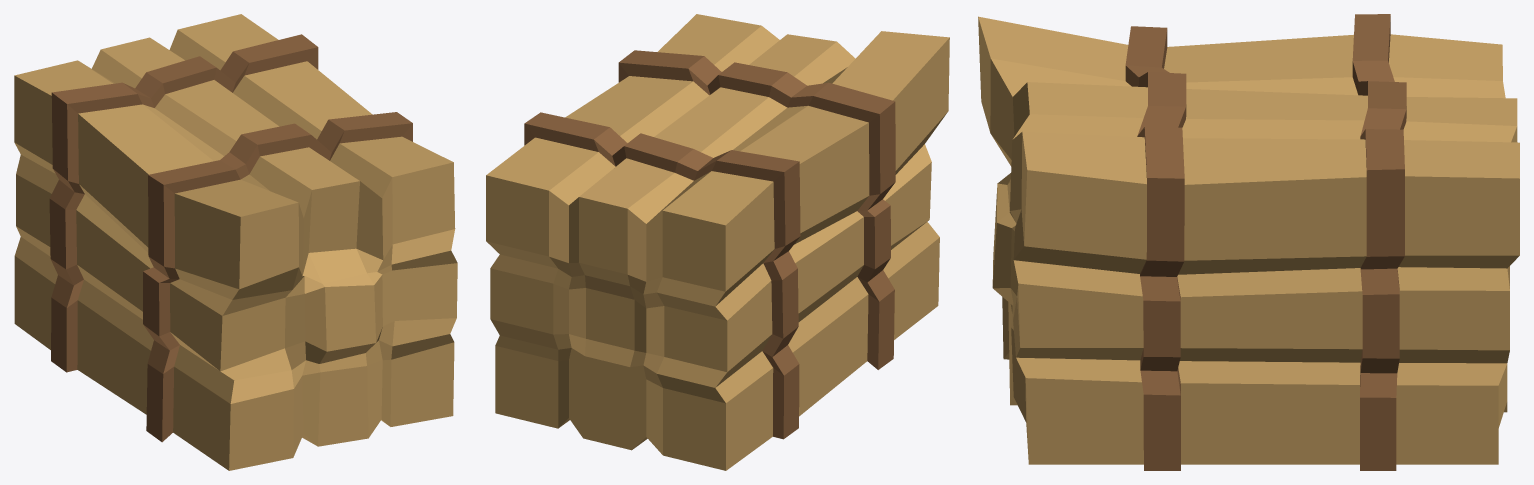
Rendered from Hay.fbx.
3 views of the same model, side by side, from view 1: azimuth 30°, elevation 25°; view 2: azimuth 150°, elevation 25°; view 3: azimuth 270°, elevation 25° (orthographic). The views are drawn at different scales.
Visible parts, largest first — view 1: Cube.008; view 2: Cube.008; view 3: Cube.008.
Boxes of the visible parts, x1,y1,x2,y2 form: Cube.008: (14,14,457,470); Cube.008: (486,14,949,470); Cube.008: (978,14,1519,470).
Size of the model in its own units: 113 by 115 by 179.
